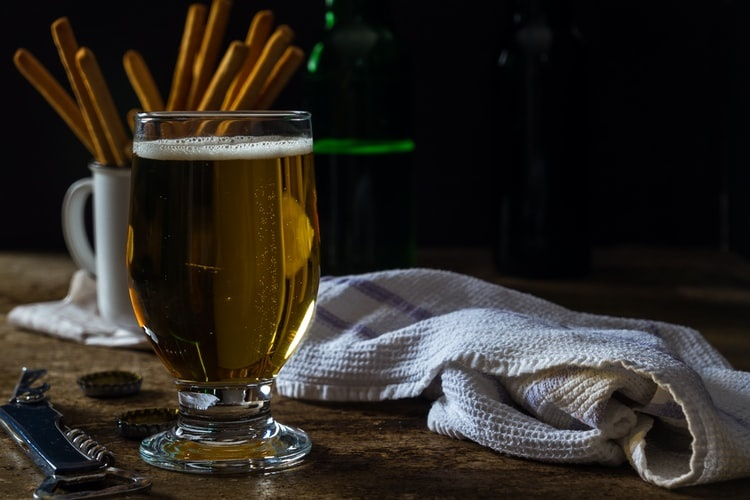whiskey: (124, 107, 318, 465)
